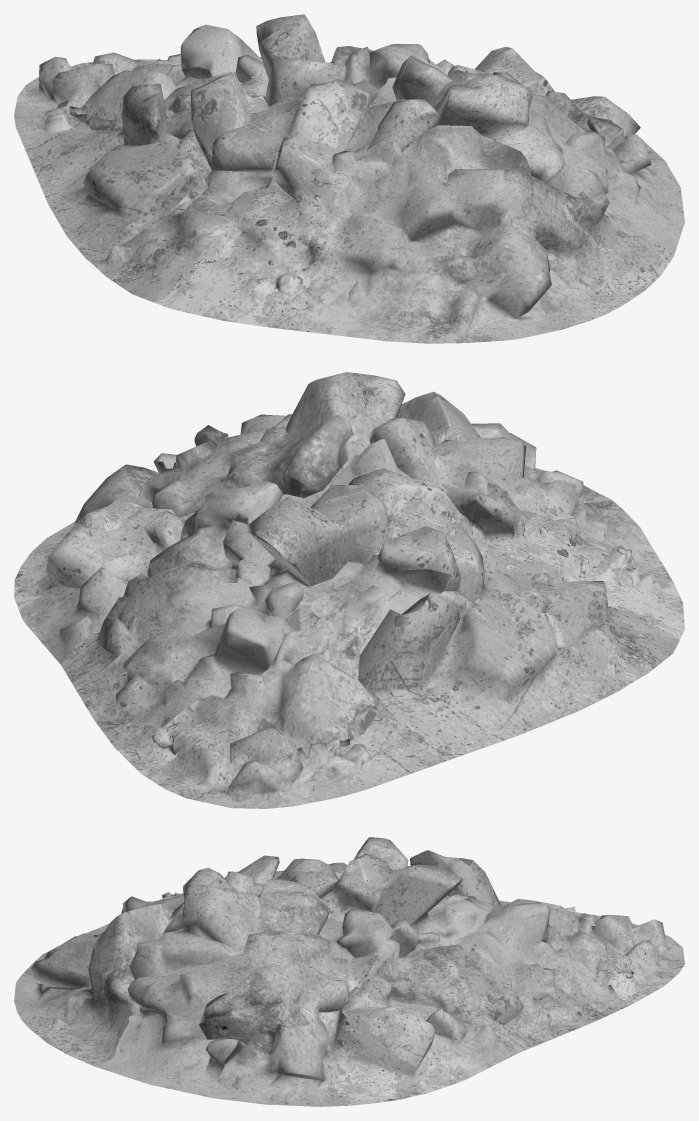
File: SM_Debris_01a.fbx
3 views of the same model, one above another, from view 1: azimuth 30°, elevation 25°; view 2: azimuth 150°, elevation 25°; view 3: azimuth 270°, elevation 25° (orthographic). The views are drawn at different scales.
Parts seen in each view (by area): view 1: SM_Debris_01a_LOD0; view 2: SM_Debris_01a_LOD0; view 3: SM_Debris_01a_LOD0.
Boxes of the visible parts, left/top/right/bottom form: SM_Debris_01a_LOD0: left=14, top=14, right=684, bottom=343; SM_Debris_01a_LOD0: left=14, top=372, right=684, bottom=808; SM_Debris_01a_LOD0: left=14, top=837, right=684, bottom=1106.
Bounding box in the file's own units: 260 × 325 × 71.83.
